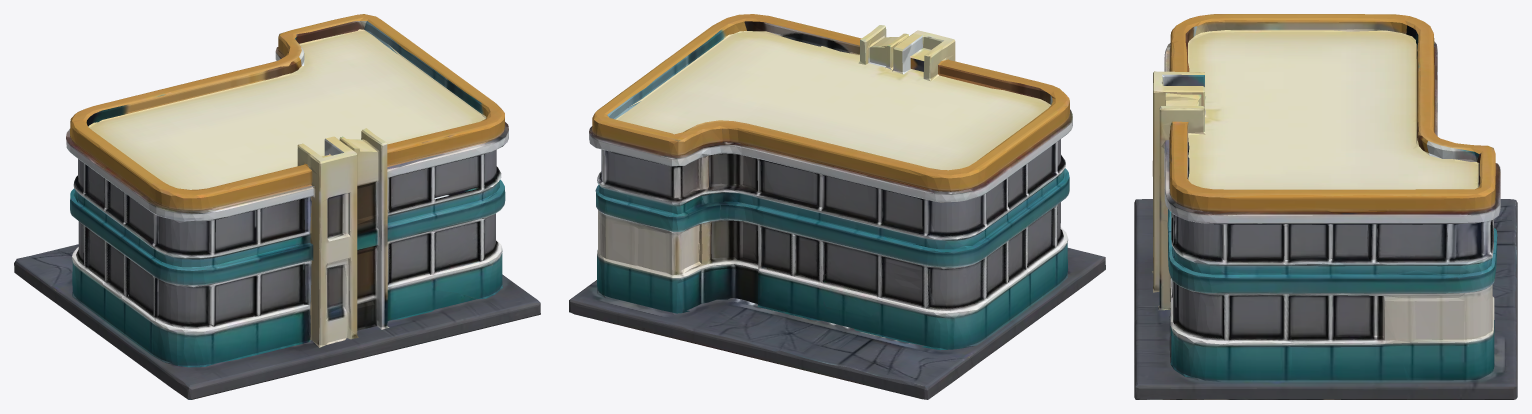
Rendered from automat.glb.
3 renders of one model, left to right at view 1: azimuth 30°, elevation 25°; view 2: azimuth 150°, elevation 25°; view 3: azimuth 270°, elevation 25°, orthographic. The views are drawn at different scales.
Visible parts, largest first — view 1: figure; view 2: figure; view 3: figure.
Boxes of the visible parts, x1,y1,x2,y2 form: figure: (14,14,540,399); figure: (569,14,1105,399); figure: (1134,14,1517,399).
Bounding box in the file's own units: 1.86 × 1 × 1.61.
1 material, 1 textured.
